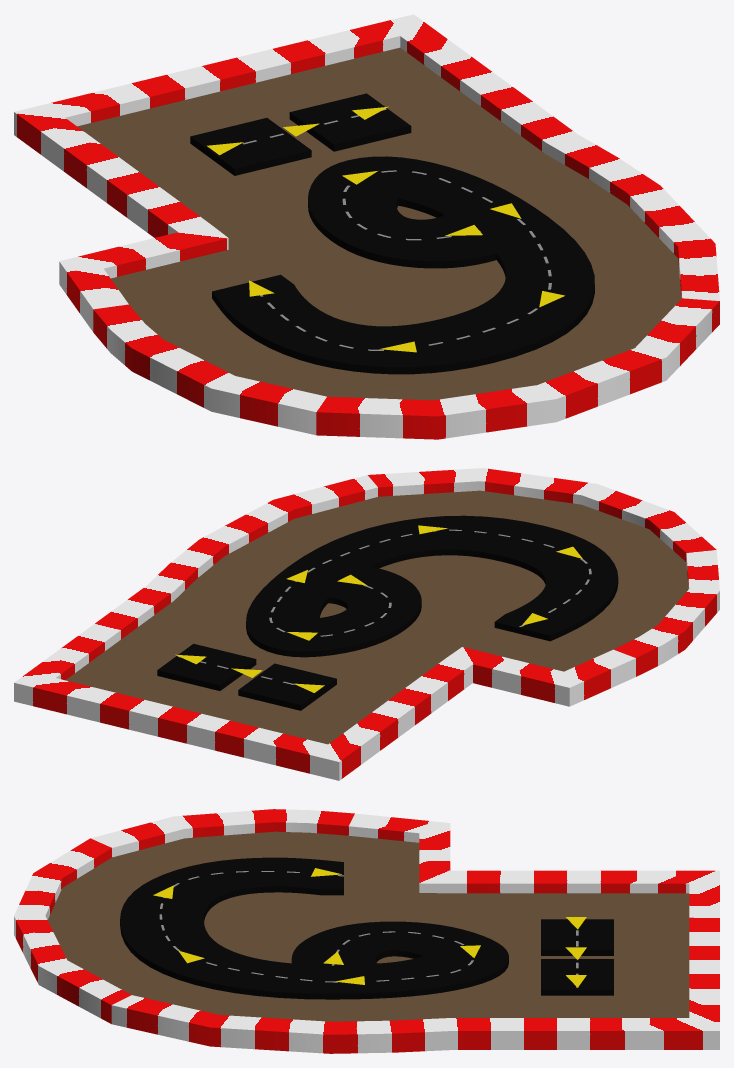
File: qaf.FBX
The picture shows the model from 3 angles, top to bottom: view 1: azimuth 30°, elevation 25°; view 2: azimuth 150°, elevation 25°; view 3: azimuth 270°, elevation 25°; orthographic projection. The views are drawn at different scales.
Parts seen in each view (by area): view 1: kaf_floor, kaf_coll, kaf, line0; view 2: kaf_floor, kaf_coll, kaf, line0; view 3: kaf_floor, kaf_coll, kaf, line0.
Boxes of the visible parts, x1=… form: kaf_floor: x1=77, y1=47, x2=681, y2=400; kaf_coll: x1=14, y1=14, x2=719, y2=439; kaf: x1=190, y1=93, x2=594, y2=374; line0: x1=251, y1=170, x2=551, y2=350; kaf_floor: x1=65, y1=490, x2=688, y2=744; kaf_coll: x1=14, y1=468, x2=719, y2=780; kaf: x1=157, y1=515, x2=618, y2=710; line0: x1=269, y1=529, x2=591, y2=636; kaf_floor: x1=47, y1=831, x2=689, y2=1021; kaf_coll: x1=14, y1=809, x2=719, y2=1053; kaf: x1=120, y1=857, x2=613, y2=999; line0: x1=159, y1=871, x2=473, y2=982.
Bounding box in the file's own units: 833 × 32.76 × 1101.
